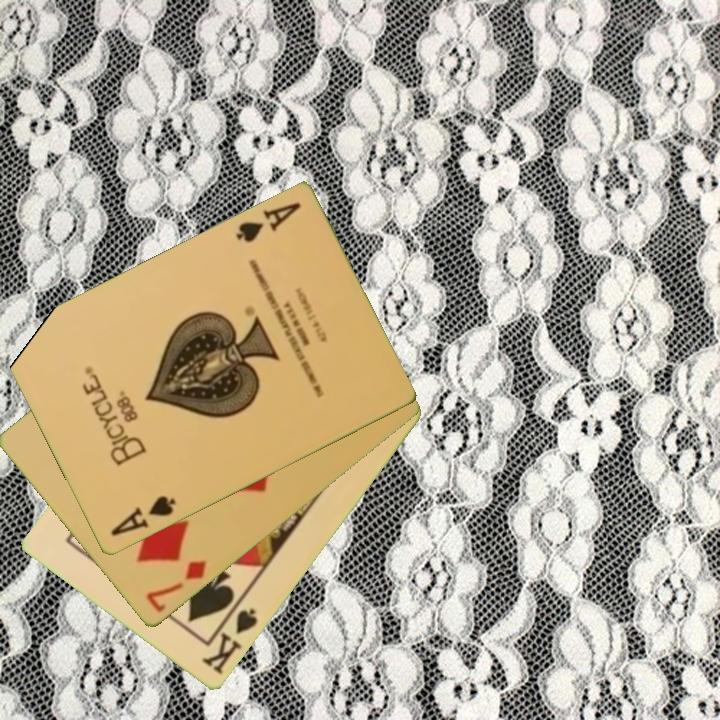7d: (143, 557, 209, 617)
As: (107, 492, 179, 540), (232, 199, 304, 246)
Ks: (198, 597, 261, 678)
